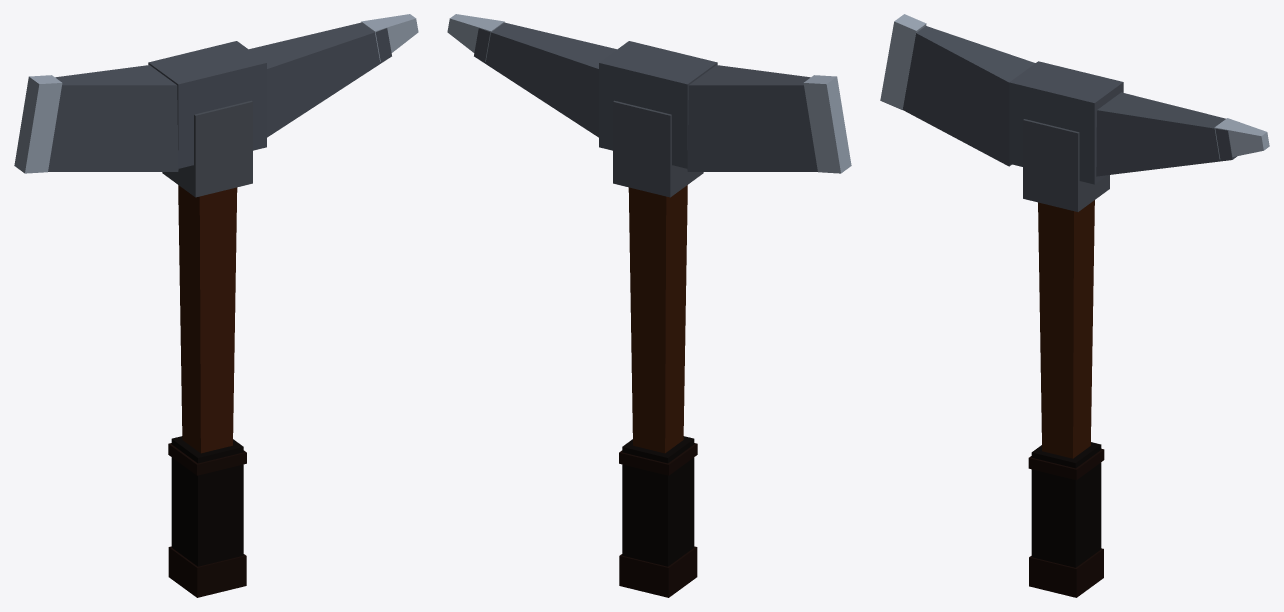
The model's file is PicoMinero_low.fbx.
The picture shows the model from 3 angles, left to right: view 1: azimuth 30°, elevation 25°; view 2: azimuth 150°, elevation 25°; view 3: azimuth 330°, elevation 25°; orthographic projection. The views are drawn at different scales.
Parts seen in each view (by area): view 1: PicoMinero_low; view 2: PicoMinero_low; view 3: PicoMinero_low.
Part boxes in pixels (left/top/right/bottom): PicoMinero_low: left=14, top=14, right=418, bottom=597; PicoMinero_low: left=447, top=14, right=851, bottom=597; PicoMinero_low: left=880, top=14, right=1269, bottom=597.
Size of the model in its own units: 76.02 by 99.72 by 11.
